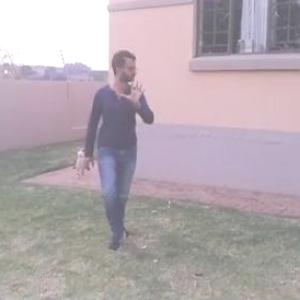follow_hand: (119, 77, 149, 106)
